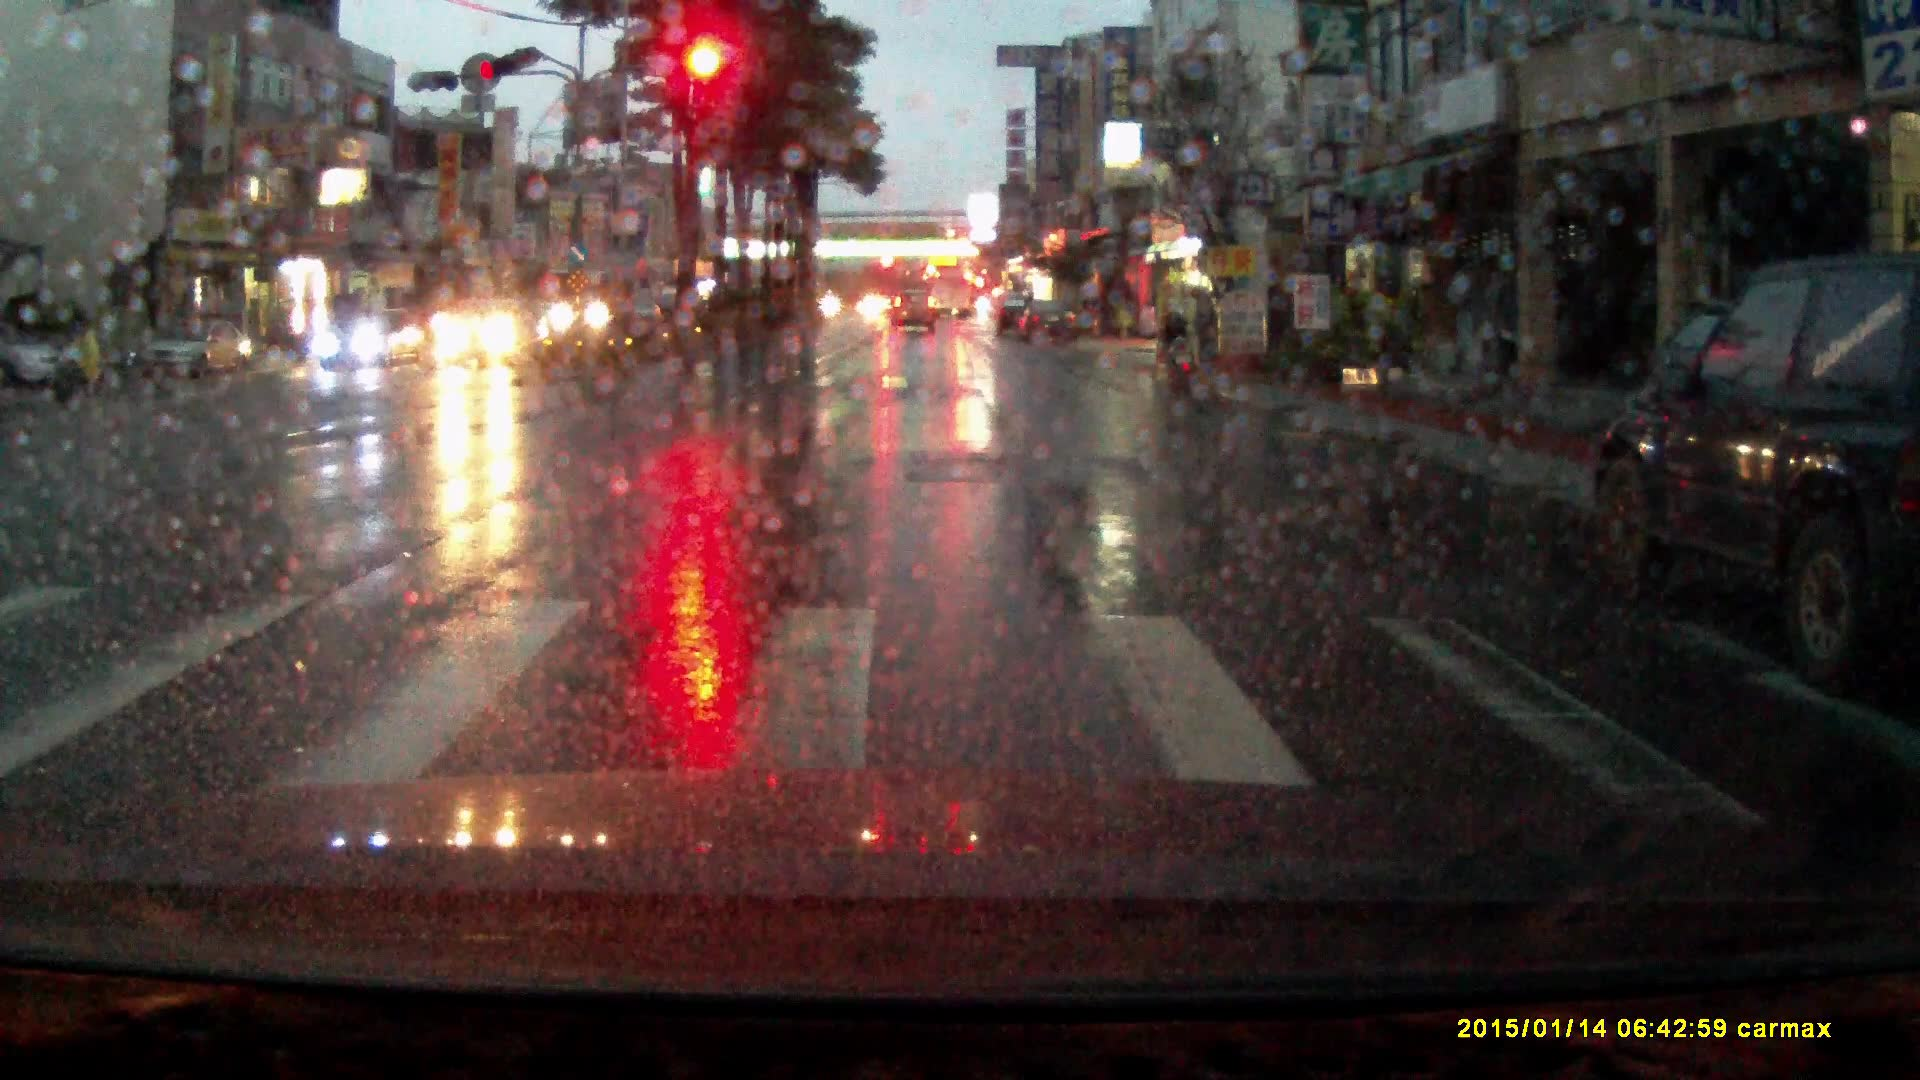rider: (49, 307, 124, 405)
vehicle: (1582, 248, 1920, 683), (436, 294, 546, 366), (317, 303, 430, 372), (142, 314, 253, 380), (550, 268, 643, 333), (1, 331, 69, 389), (1017, 300, 1079, 343), (929, 264, 970, 319), (891, 289, 937, 336), (995, 295, 1030, 338), (860, 293, 894, 319)
